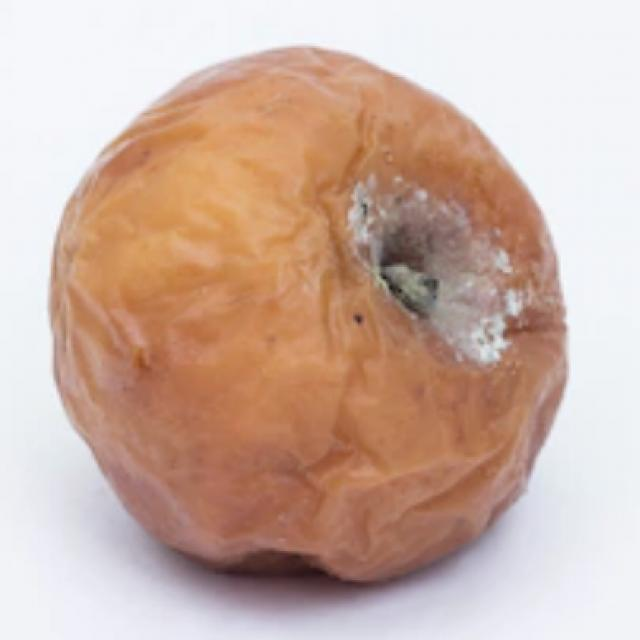Rotten: (43, 44, 570, 584)
